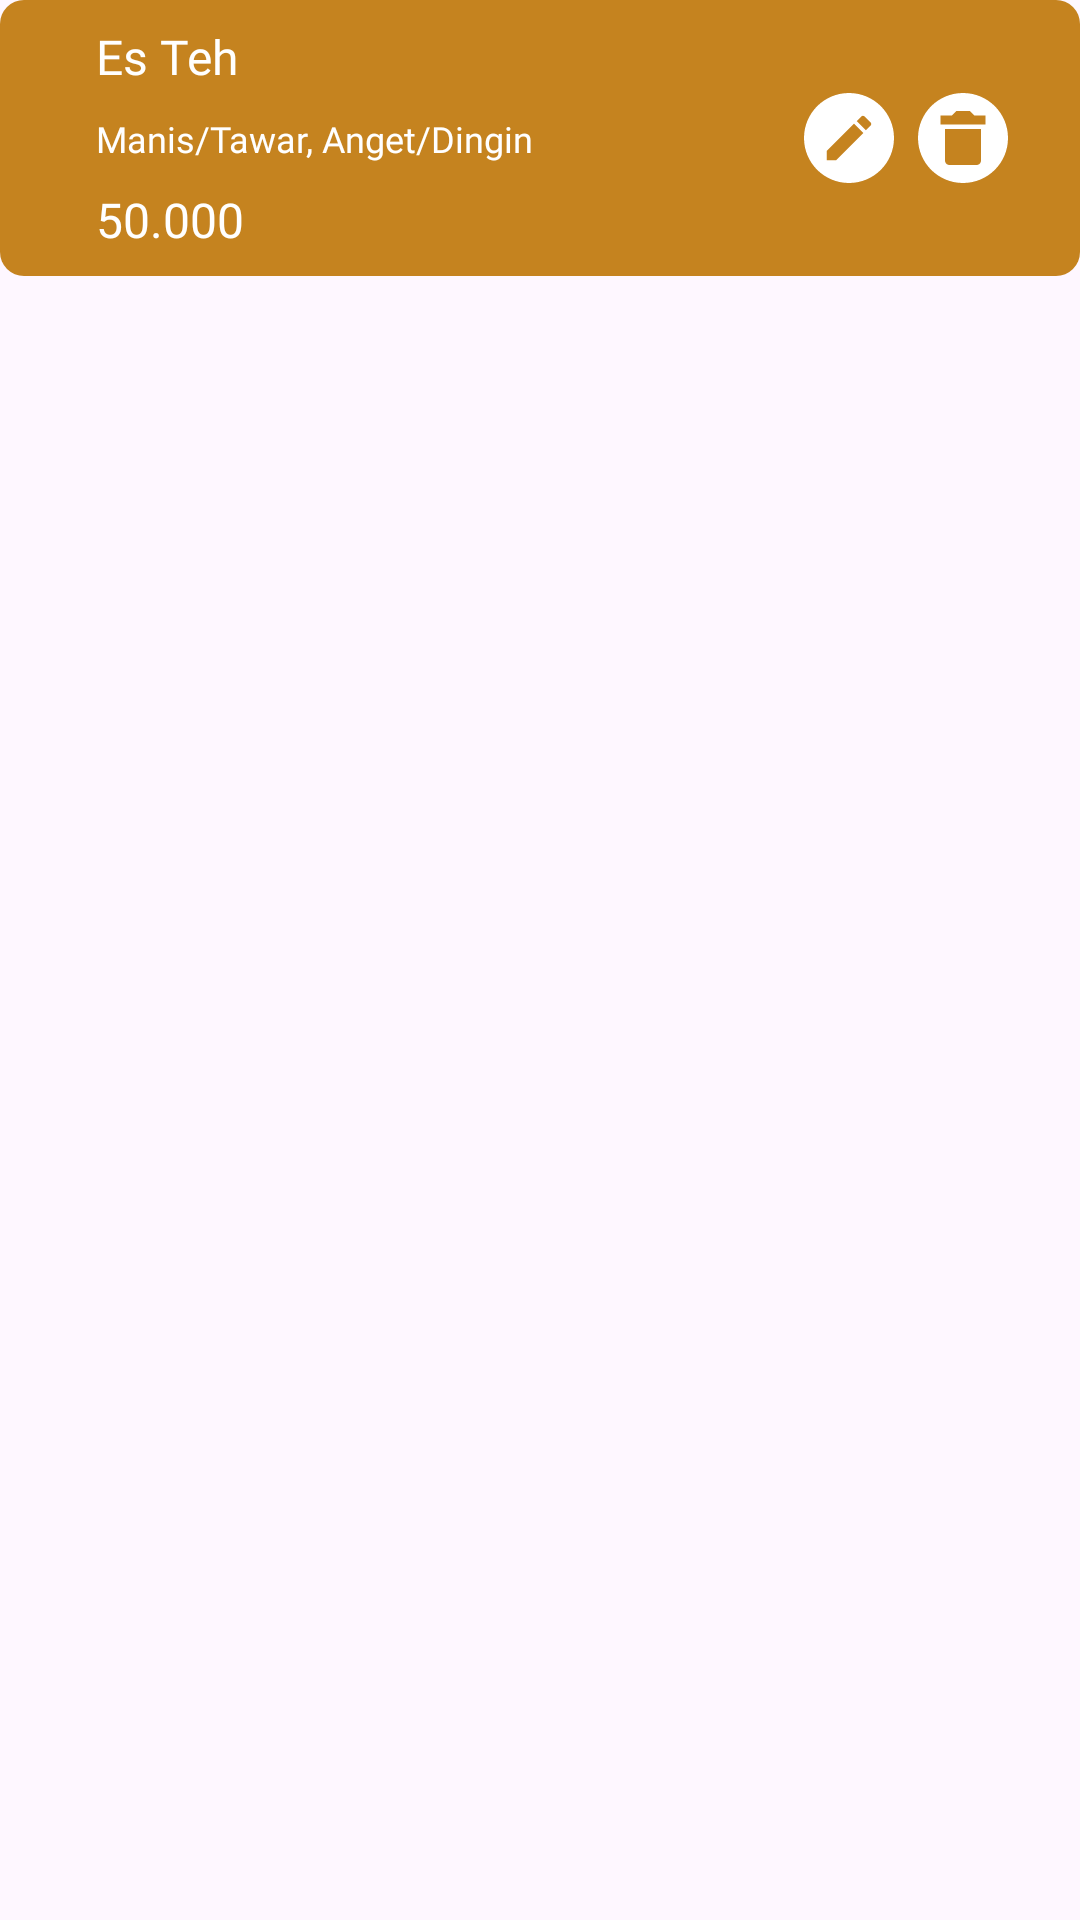

Locate icon controls on the screen. Image size 1080*1920, boxes as (x1, y1, x2, y2).
delete: (918, 93, 1008, 183)
update: (804, 93, 894, 183)
